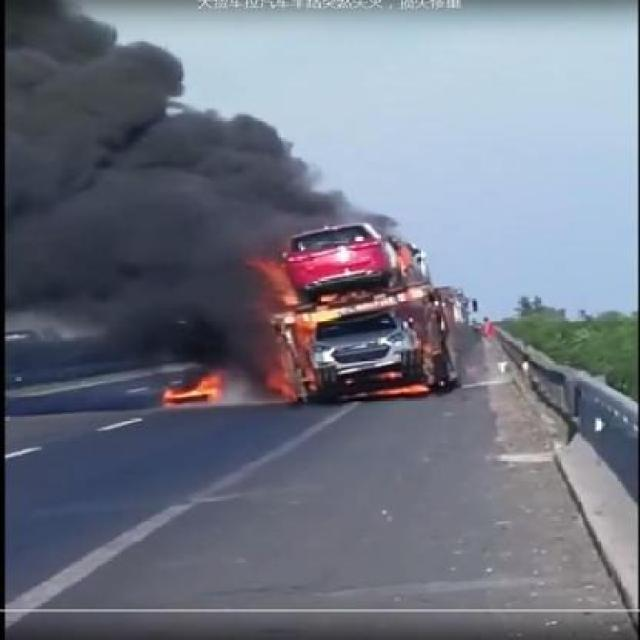Fire: (240, 240, 328, 403), (159, 363, 223, 411), (366, 372, 429, 400)
Smoke: (4, 2, 234, 357), (238, 115, 393, 240)
